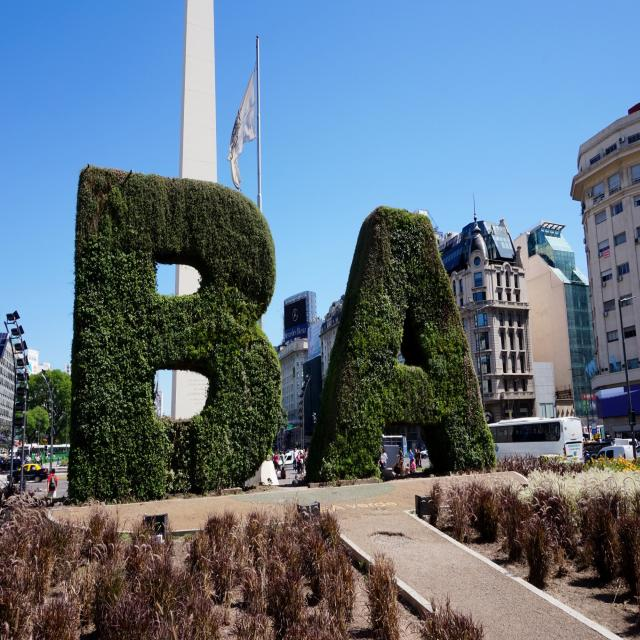body: (0, 442, 70, 472), (583, 434, 640, 450), (397, 446, 422, 474), (293, 448, 307, 484), (46, 467, 58, 498), (392, 456, 404, 480), (379, 450, 389, 471), (276, 450, 286, 468), (273, 450, 279, 473), (378, 455, 384, 474), (382, 449, 388, 466), (409, 448, 414, 468), (417, 448, 422, 468), (396, 446, 403, 459), (276, 448, 293, 453), (280, 466, 286, 480), (414, 449, 418, 468)
